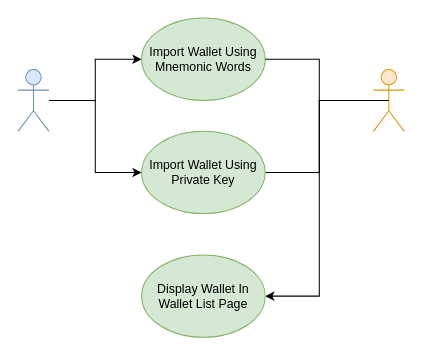
This 446x355 diagram has some shape labels left out. The shapes that lost their labels are listed below. From the top down, each one's centre as x and y in pixels, then its label:
At point (33, 99): "User".
At point (388, 99): "<<MegaTon>>".
